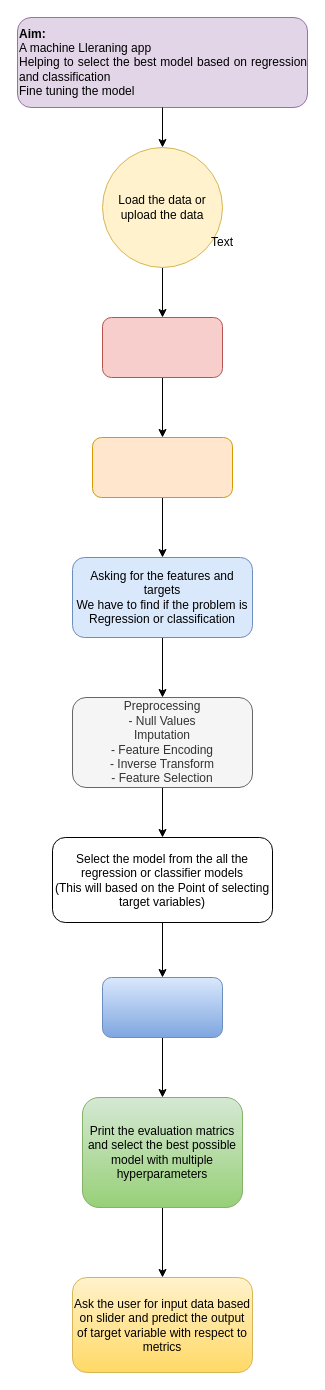
The diagram is 325 pixels wide and 1390 high, and some of its shapes have lost their labels. The centre of each missing label's shape, as x and y in pixels:
"Add the evaluation matrics based on problem" belongs at pixel 162 1007.
"Check the column name and data types" belongs at pixel 162 467.
"Example Data button" belongs at pixel 162 347.
